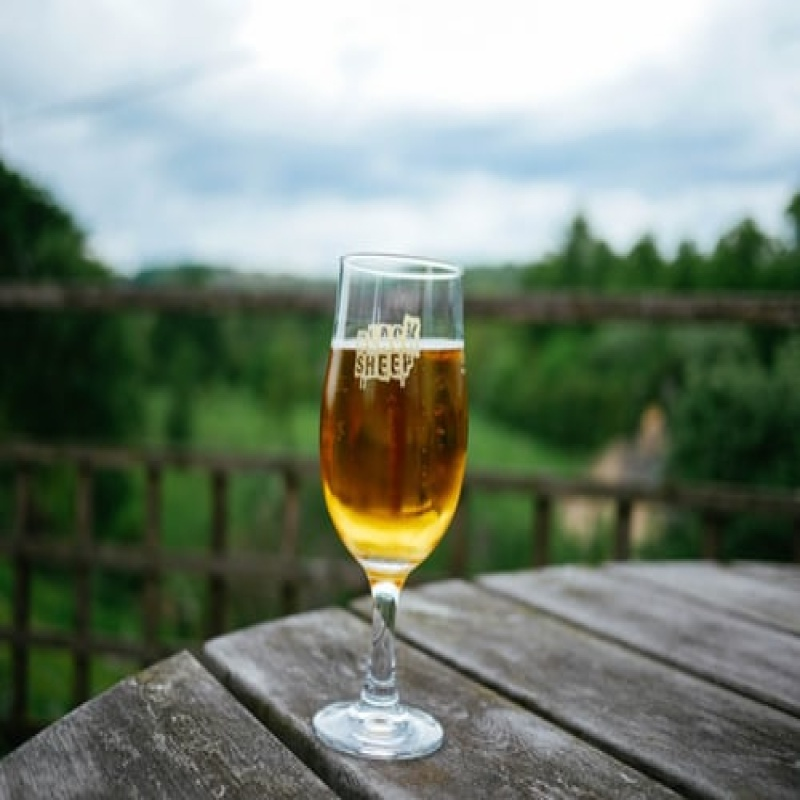whiskey: (323, 246, 467, 596)
